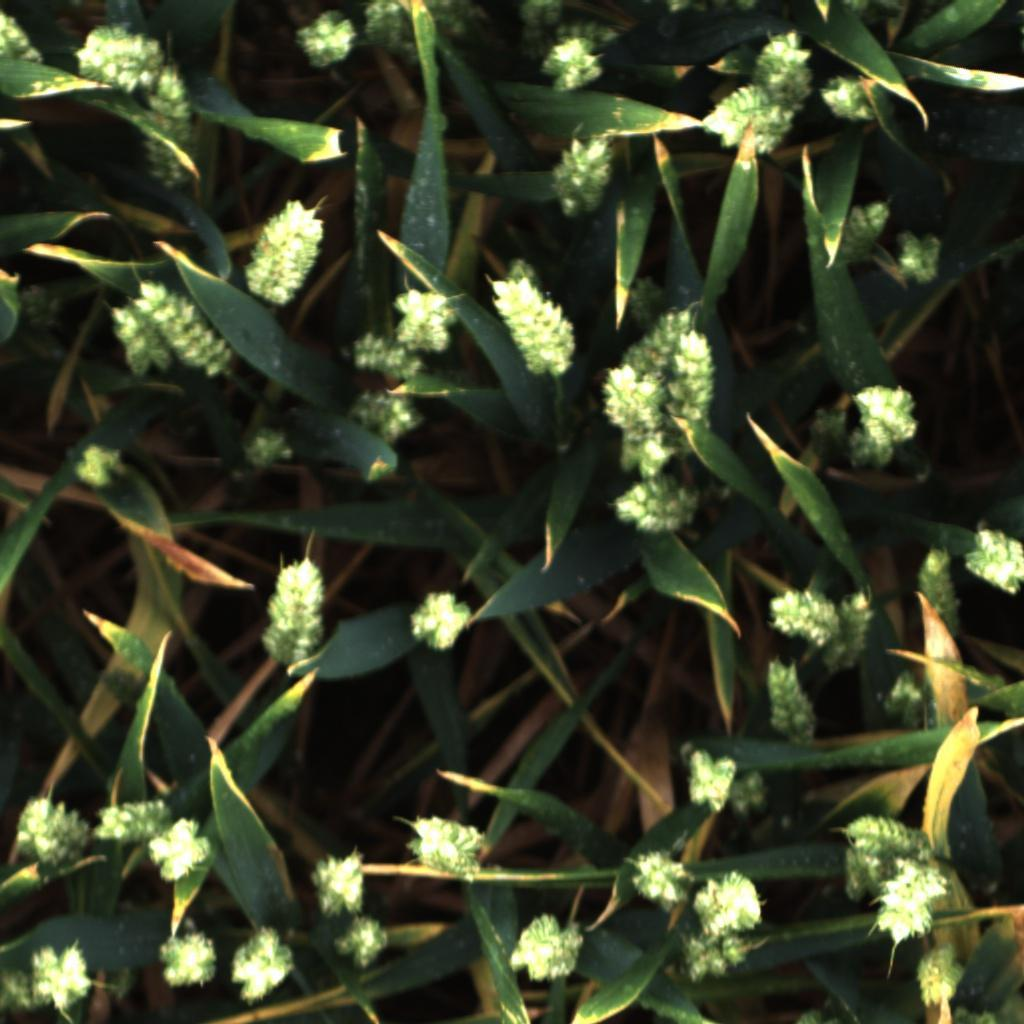0-0: (121, 275, 236, 379), (484, 268, 578, 381), (255, 548, 331, 677), (242, 199, 327, 306), (697, 71, 799, 159), (139, 59, 198, 195), (615, 303, 692, 407), (870, 852, 952, 949), (225, 916, 303, 1011), (605, 470, 707, 541), (74, 20, 166, 95), (12, 792, 95, 873), (544, 135, 619, 223), (500, 911, 585, 987), (105, 304, 180, 385), (759, 657, 825, 747), (405, 812, 487, 883), (688, 866, 765, 941), (664, 328, 718, 429), (749, 27, 812, 113), (840, 837, 921, 903), (343, 324, 431, 384), (836, 807, 932, 861), (392, 283, 462, 357), (851, 378, 923, 449), (600, 365, 668, 440), (765, 585, 842, 648), (912, 546, 962, 643), (86, 792, 175, 846), (27, 942, 92, 1014), (836, 194, 898, 267), (341, 388, 422, 443), (410, 589, 474, 658), (291, 6, 355, 73), (537, 34, 608, 94), (306, 854, 370, 920), (961, 529, 1024, 596), (146, 819, 208, 887), (150, 932, 217, 994), (362, 1, 423, 68), (627, 849, 691, 911), (829, 588, 875, 673), (794, 397, 854, 462), (684, 745, 740, 812), (612, 429, 682, 479), (332, 914, 393, 970), (894, 226, 949, 288), (74, 430, 127, 494), (512, 0, 563, 62), (915, 941, 960, 1011), (846, 415, 896, 477), (873, 672, 926, 727), (0, 10, 44, 76), (234, 423, 293, 472), (816, 74, 875, 123), (420, 0, 487, 41), (624, 270, 670, 329), (679, 934, 729, 983), (14, 280, 62, 331), (1, 968, 44, 1018), (554, 22, 621, 53), (727, 768, 768, 815), (841, 0, 907, 24), (719, 933, 751, 967), (952, 1003, 997, 1023), (793, 1009, 842, 1024)
